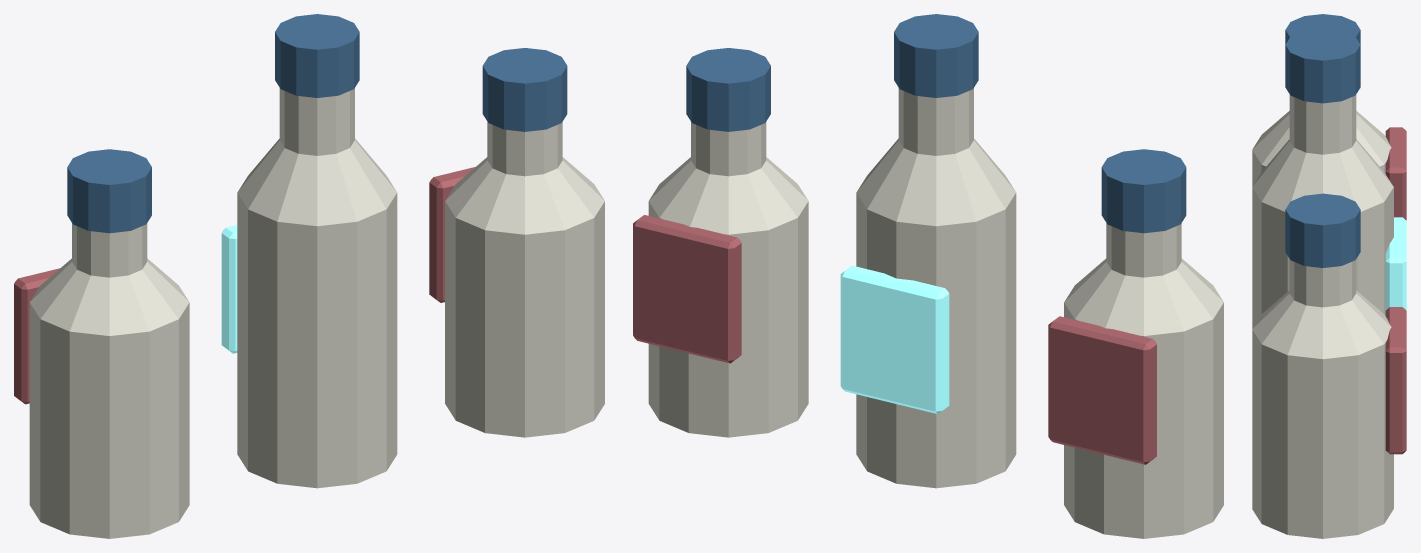
Rendered from medicine_bottle_display.glb.
3 renders of one model, left to right at view 1: azimuth 30°, elevation 25°; view 2: azimuth 150°, elevation 25°; view 3: azimuth 270°, elevation 25°, orthographic. The views are drawn at different scales.
Visible parts, largest first — view 1: medicine_body (×3), medicine_shoulder (×3), medicine_cap (×3), medicine_neck (×3), bottle_label (×3); view 2: medicine_body (×3), bottle_label (×3), medicine_shoulder (×3), medicine_cap (×3), medicine_neck (×3); view 3: medicine_body (×3), medicine_shoulder (×3), medicine_cap (×3), bottle_label (×3), medicine_neck (×2).
Part boxes in pixels (bbox=[...]): medicine_body (×3): bbox=[29, 193, 604, 538]; medicine_shoulder (×3): bbox=[30, 138, 604, 335]; medicine_cap (×3): bbox=[67, 14, 567, 233]; medicine_neck (×3): bbox=[72, 88, 562, 277]; bottle_label (×3): bbox=[14, 167, 474, 404]; medicine_body (×3): bbox=[648, 193, 1223, 538]; bottle_label (×3): bbox=[633, 215, 1156, 464]; medicine_shoulder (×3): bbox=[649, 138, 1223, 335]; medicine_cap (×3): bbox=[686, 14, 1186, 233]; medicine_neck (×3): bbox=[691, 88, 1181, 277]; medicine_body (×3): bbox=[1252, 150, 1393, 538]; medicine_shoulder (×3): bbox=[1252, 111, 1393, 359]; medicine_cap (×3): bbox=[1285, 14, 1360, 267]; bottle_label (×3): bbox=[1385, 127, 1406, 454]; medicine_neck (×2): bbox=[1289, 94, 1356, 307].
Bounding box in the file's own units: 0.24 × 0.175 × 0.0655.
